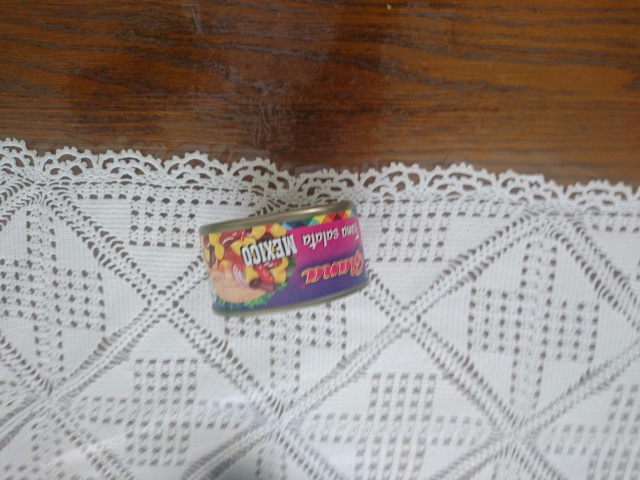Giana Tuna Salad Mexico 185g: (195, 197, 373, 320)
